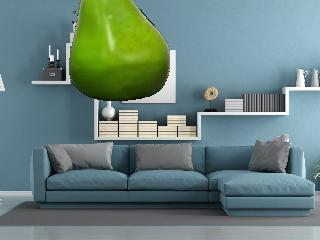pear: (69, 0, 170, 101)
